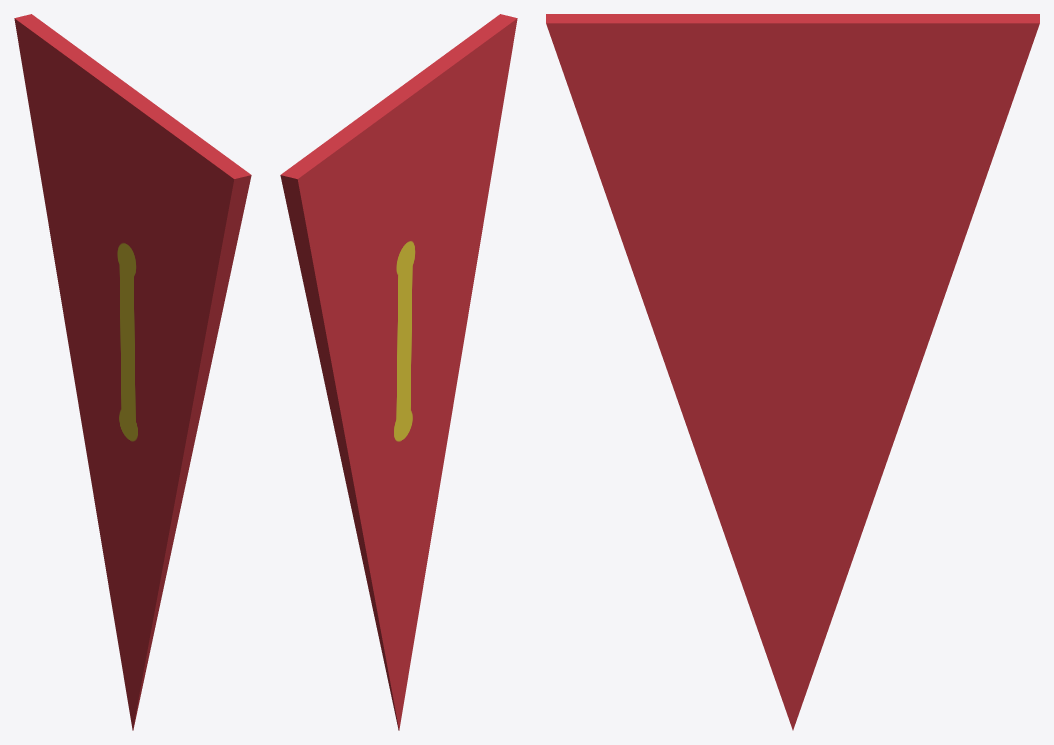
The model's file is mode_banner.FBX.
3 renders of one model, left to right at view 1: azimuth 30°, elevation 25°; view 2: azimuth 150°, elevation 25°; view 3: azimuth 270°, elevation 25°, orthographic. The views are drawn at different scales.
Parts seen in each view (by area): view 1: Box001; view 2: Box001; view 3: Box001.
Part boxes in pixels (x1,y1,x2,y2): Box001: [14, 14, 251, 730]; Box001: [280, 14, 517, 730]; Box001: [546, 14, 1039, 730].
Size of the model in its own units: 1 by 35 by 22.
Materials: 1 (1 with a texture image).
